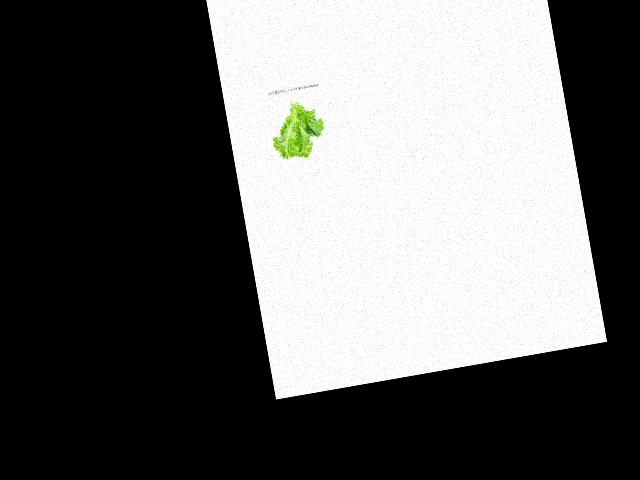lettuce: (265, 91, 330, 164)
